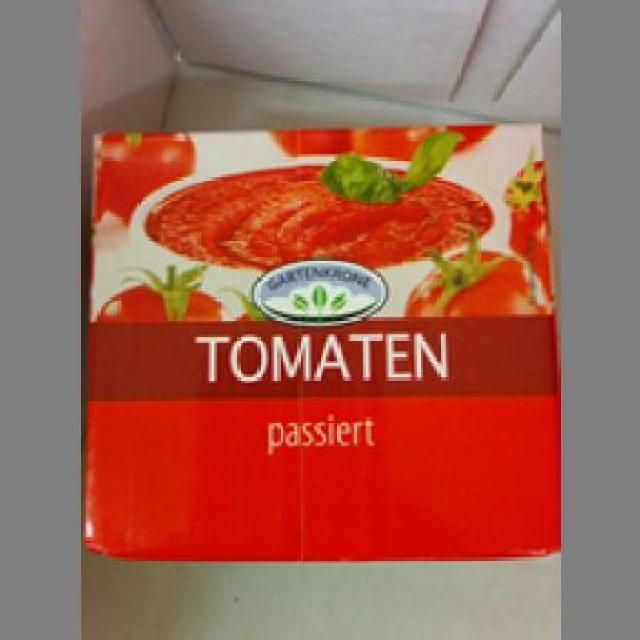Tomato Sauce: (79, 114, 555, 563)
